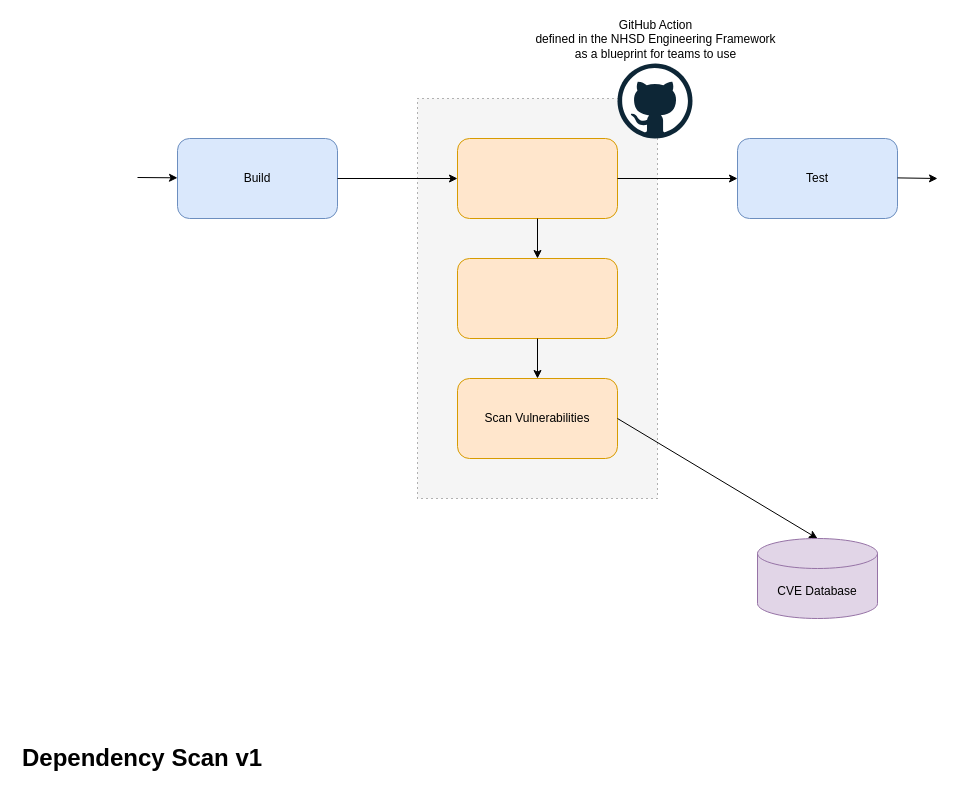
The diagram is 963 pixels wide and 795 high, and some of its shapes have lost their labels. The centre of each missing label's shape, as x and y in pixels:
Dependency scan: the point at 537,178
Generate SBOM: the point at 537,298
